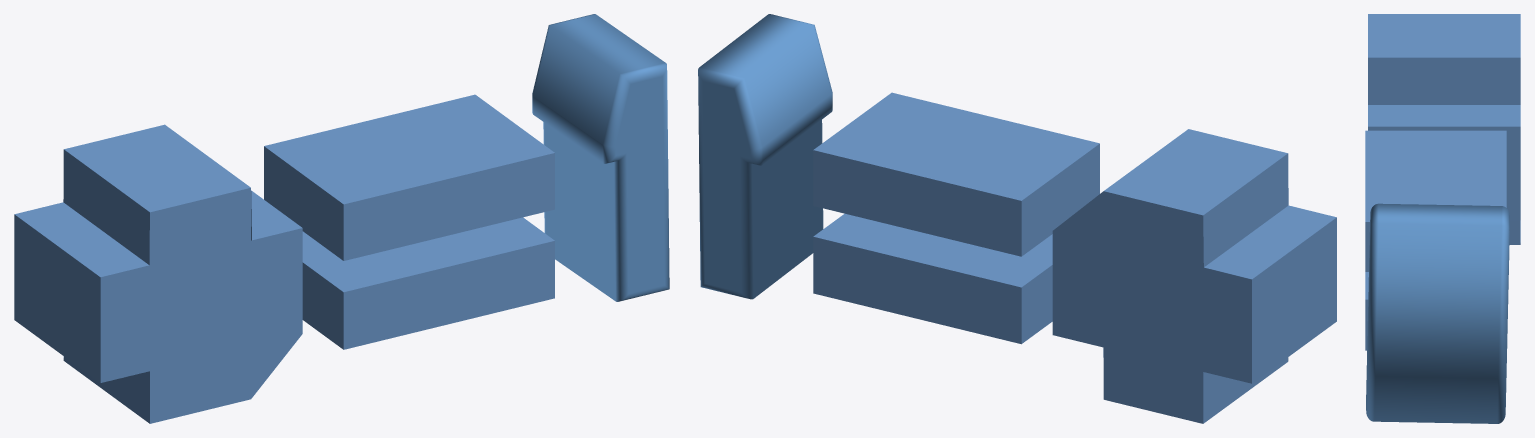
The model's file is plusequalone.fbx.
The picture shows the model from 3 angles, left to right: view 1: azimuth 30°, elevation 25°; view 2: azimuth 150°, elevation 25°; view 3: azimuth 270°, elevation 25°; orthographic projection. The views are drawn at different scales.
Visible parts, largest first — view 1: Cube, Cube.001, 1; view 2: Cube, Cube.001, 1; view 3: 1, Cube, Cube.001.
Boxes of the visible parts, <box> form: Cube: <box>14,124,302,423</box>; Cube.001: <box>264,94,554,349</box>; 1: <box>532,14,669,301</box>; Cube: <box>1052,129,1336,423</box>; Cube.001: <box>813,92,1099,344</box>; 1: <box>698,14,832,299</box>; 1: <box>1366,203,1509,423</box>; Cube: <box>1368,14,1520,244</box>; Cube.001: <box>1365,130,1506,350</box>.
Bounding box in the file's own units: 5.65 × 2.17 × 1.5.
